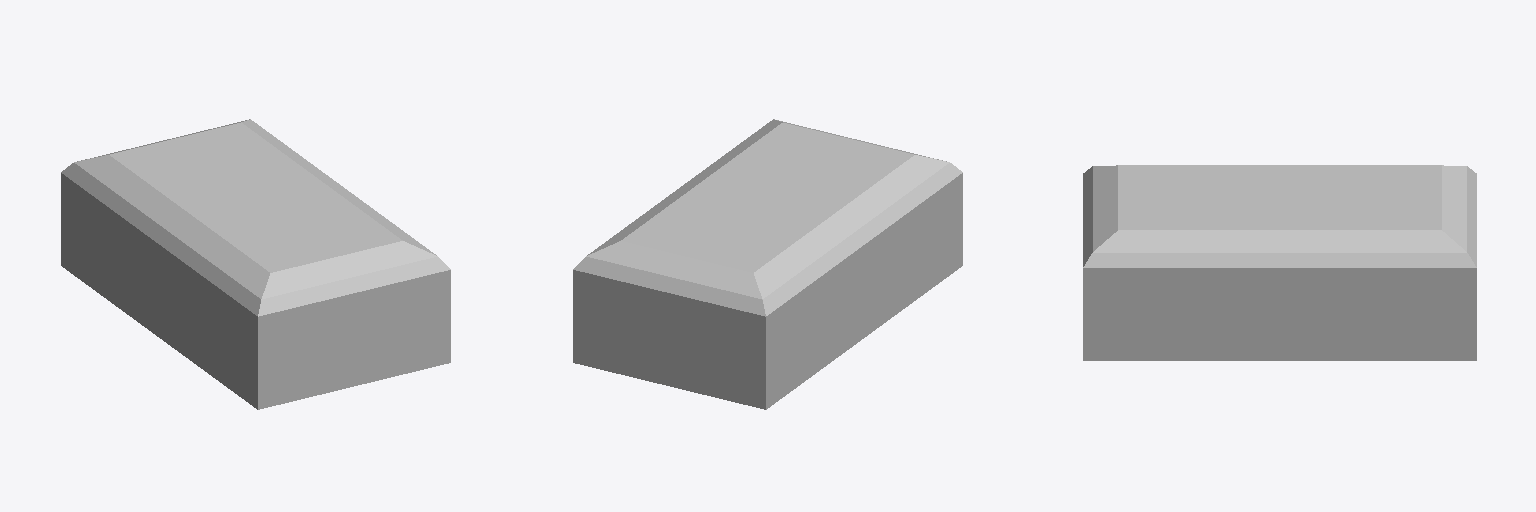
The model's file is Low Rez Mid CAP.obj.
The picture shows the model from 3 angles: view 1: azimuth 30°, elevation 25°; view 2: azimuth 150°, elevation 25°; view 3: azimuth 270°, elevation 25°; orthographic projection.
Parts seen in each view (by area): view 1: pCube1 MIddle_Thing; view 2: pCube1 MIddle_Thing; view 3: pCube1 MIddle_Thing.
Part boxes in pixels (left/top/right/bottom): pCube1 MIddle_Thing: left=61, top=119, right=450, bottom=409; pCube1 MIddle_Thing: left=573, top=119, right=962, bottom=409; pCube1 MIddle_Thing: left=1083, top=165, right=1476, bottom=360.
Size of the model in its own units: 3.8 by 2.19 by 6.72.